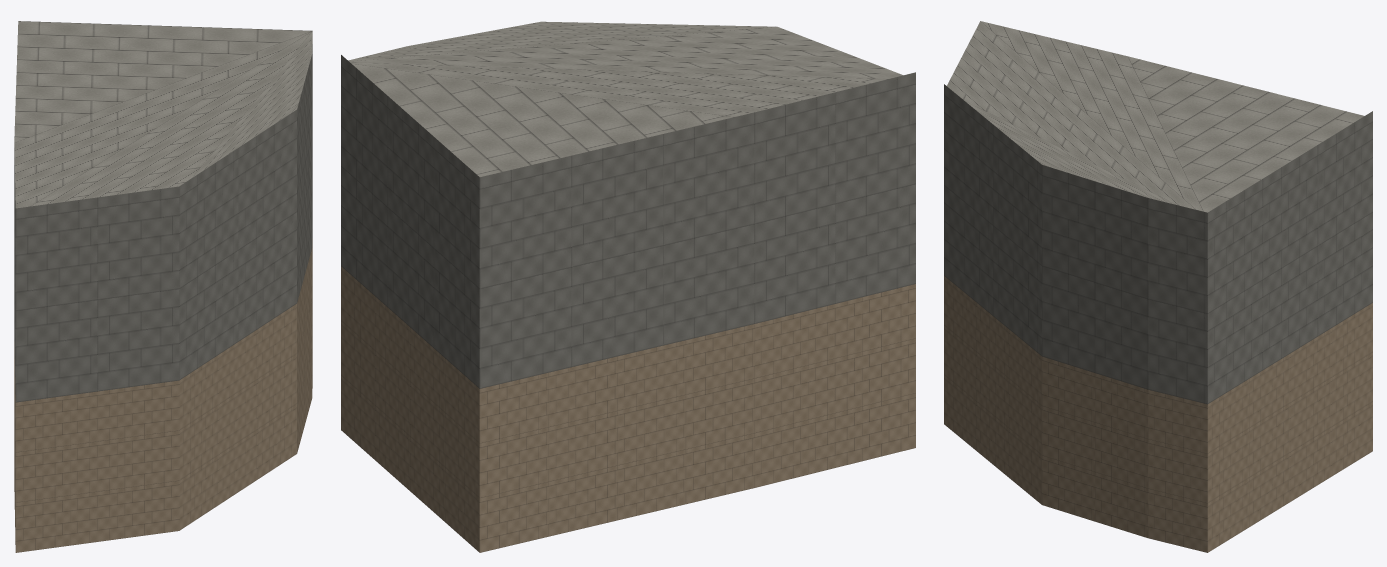
The model's file is bld_c22_45_392.gltf.
The picture shows the model from 3 angles, left to right: view 1: azimuth 30°, elevation 25°; view 2: azimuth 150°, elevation 25°; view 3: azimuth 270°, elevation 25°; orthographic projection. The views are drawn at different scales.
Parts seen in each view (by area): view 1: bld_c22_45_392; view 2: bld_c22_45_392; view 3: bld_c22_45_392.
Boxes of the visible parts, box(x1,y1,x2,y2) form: bld_c22_45_392: box(14, 21, 312, 552); bld_c22_45_392: box(341, 21, 915, 552); bld_c22_45_392: box(944, 21, 1372, 552).
Bounding box in the file's own units: 14.62 × 11.68 × 13.33.
Materials: 4 (4 with a texture image).
